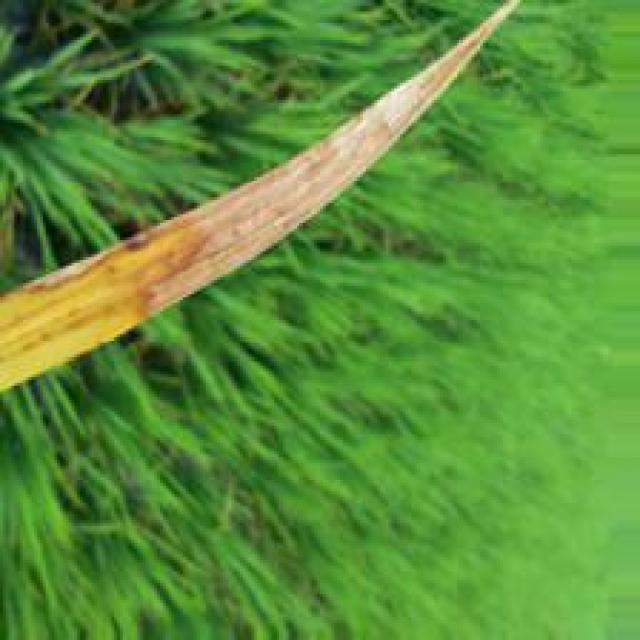Rice False Smut: (11, 44, 466, 319)
